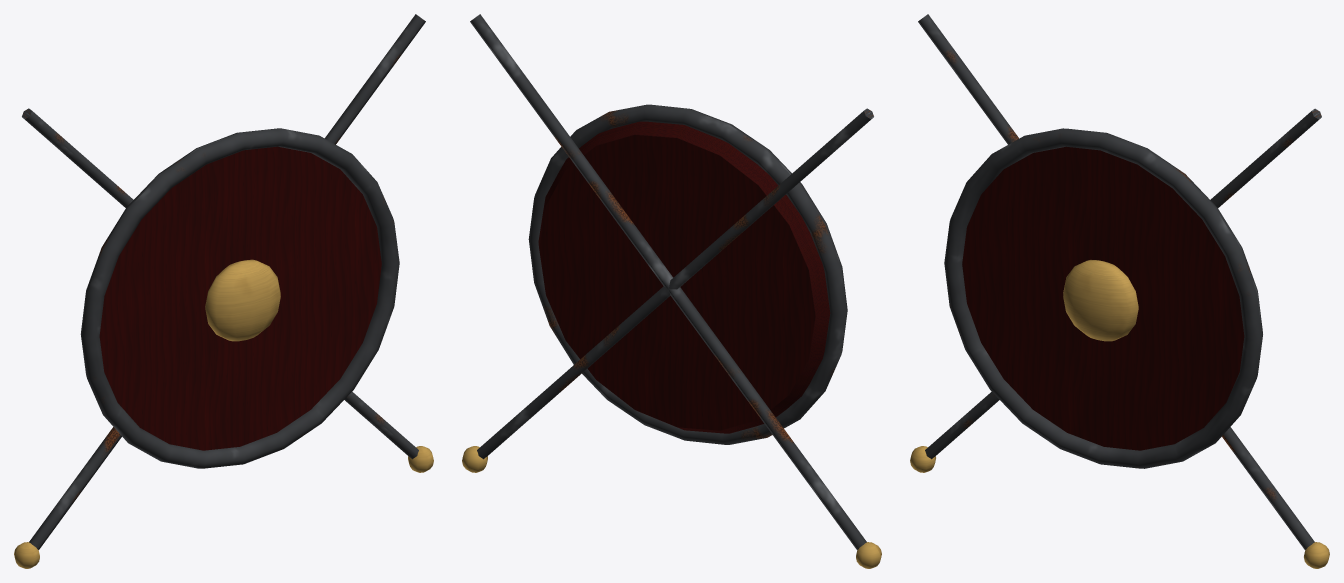
The model's file is shieldDisplay.glb.
3 views of the same model, side by side, from view 1: azimuth 30°, elevation 25°; view 2: azimuth 150°, elevation 25°; view 3: azimuth 330°, elevation 25° (orthographic).
Parts seen in each view (by area): view 1: shieldDisplay; view 2: shieldDisplay; view 3: shieldDisplay.
Part boxes in pixels (left/top/right/bottom): shieldDisplay: left=14, top=14, right=433, bottom=568; shieldDisplay: left=462, top=14, right=881, bottom=568; shieldDisplay: left=910, top=14, right=1329, bottom=568.
Size of the model in its own units: 0.89 by 0.9325 by 0.135.
Materials: 3 (3 with a texture image).
